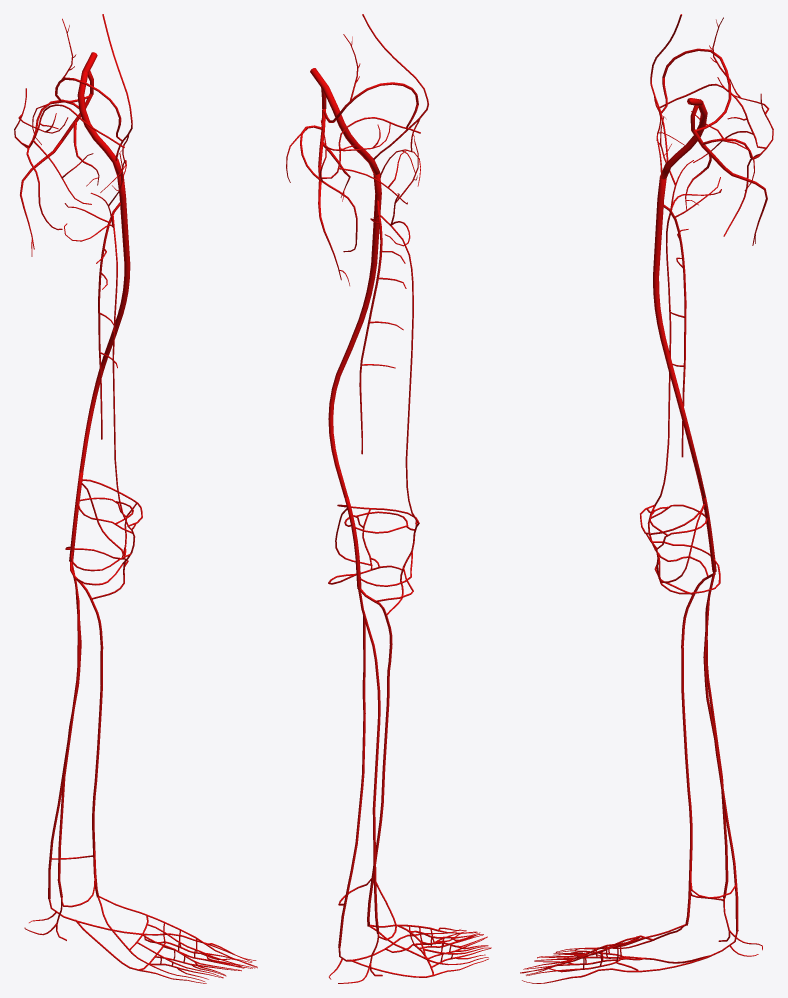
The model's file is Lower limb Arteries.fbx.
3 renders of one model, left to right at view 1: azimuth 90°, elevation 25°; view 2: azimuth 150°, elevation 25°; view 3: azimuth 270°, elevation 25°, orthographic. The views are drawn at different scales.
Parts seen in each view (by area): view 1: Femoral_R, Superior_gluteal_R, Fibular_R, Anterior_tibial_R, External_iliac_R, Proper_plantar_digital_R, Lateral_circumflex_femoral_descending_branch_R, Dorsal_digital_R, Profunda_femoris_R, Posterior_Tibial_R; view 2: Femoral_R, Superior_gluteal_R, Fibular_R, Anterior_tibial_R, Posterior_Tibial_R, External_iliac_R, Lateral_circumflex_femoral_descending_branch_R, Profunda_femoris_R, Deep_cirumflex_iliac_R, Iliolumbar_R, Proper_plantar_digital_R, Dorsal_digital_R (+1 smaller); view 3: Femoral_R, Superior_gluteal_R, Anterior_tibial_R, Posterior_Tibial_R, Fibular_R, Profunda_femoris_R, Iliolumbar_R, Lateral_circumflex_femoral_descending_branch_R, External_iliac_R, Proper_plantar_digital_R, Dorsal_digital_R.
Part boxes in pixels (x1,y1,x2,y2): Femoral_R: [79, 176, 130, 472]; Superior_gluteal_R: [14, 88, 124, 230]; Fibular_R: [56, 564, 79, 940]; Anterior_tibial_R: [70, 562, 103, 897]; External_iliac_R: [77, 71, 121, 176]; Proper_plantar_digital_R: [140, 941, 257, 983]; Lateral_circumflex_femoral_descending_branch_R: [112, 214, 128, 525]; Dorsal_digital_R: [131, 943, 257, 981]; Profunda_femoris_R: [98, 202, 120, 439]; Posterior_Tibial_R: [48, 590, 81, 899]; Femoral_R: [328, 173, 381, 497]; Superior_gluteal_R: [300, 117, 420, 252]; Fibular_R: [358, 589, 382, 976]; Anterior_tibial_R: [359, 589, 392, 926]; Posterior_Tibial_R: [338, 616, 365, 947]; External_iliac_R: [323, 86, 379, 174]; Lateral_circumflex_femoral_descending_branch_R: [379, 214, 418, 523]; Profunda_femoris_R: [359, 200, 382, 454]; Deep_cirumflex_iliac_R: [362, 14, 428, 159]; Iliolumbar_R: [323, 34, 418, 122]; Proper_plantar_digital_R: [416, 929, 491, 975]; Dorsal_digital_R: [430, 927, 491, 965]; Femoral_R: [653, 177, 705, 498]; Superior_gluteal_R: [659, 77, 773, 236]; Anterior_tibial_R: [681, 573, 715, 925]; Posterior_Tibial_R: [703, 599, 738, 931]; Fibular_R: [705, 572, 730, 941]; Profunda_femoris_R: [663, 204, 686, 457]; Iliolumbar_R: [662, 17, 731, 131]; Lateral_circumflex_femoral_descending_branch_R: [654, 212, 671, 506]; External_iliac_R: [660, 101, 707, 179]; Proper_plantar_digital_R: [520, 950, 642, 983]; Dorsal_digital_R: [520, 940, 650, 975].
Size of the model in its own units: 15.55 by 120 by 28.21.
